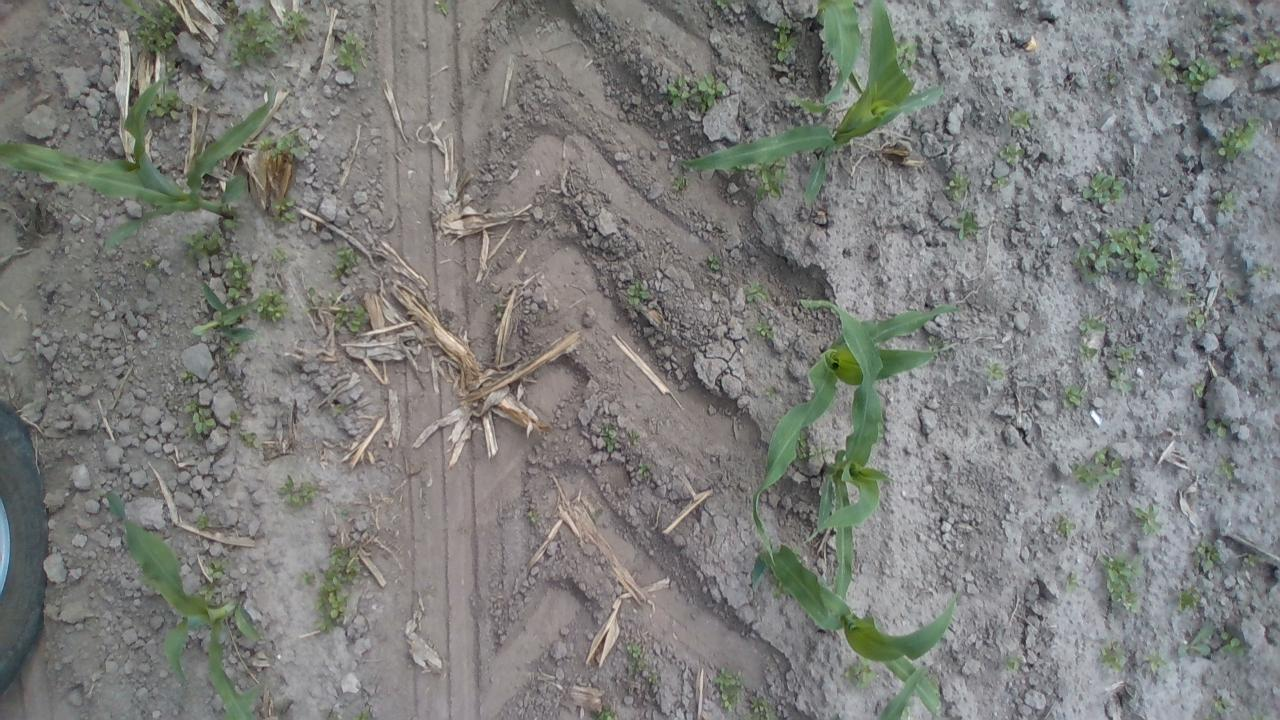Maize: (752, 302, 959, 562), (676, 6, 944, 206), (0, 78, 276, 252), (98, 485, 260, 720), (744, 546, 959, 716), (798, 293, 891, 606), (800, 0, 861, 113), (877, 667, 926, 720)
Weeds: (224, 0, 312, 70), (1072, 222, 1158, 286), (315, 546, 358, 632), (304, 287, 368, 335), (1176, 622, 1246, 659), (664, 74, 728, 114), (129, 3, 179, 54), (1100, 552, 1142, 612), (183, 216, 240, 258), (1070, 447, 1120, 490), (1216, 118, 1260, 161), (332, 29, 372, 74), (222, 250, 254, 305), (1081, 172, 1127, 208), (255, 129, 307, 160), (252, 286, 294, 324), (769, 17, 802, 62), (756, 156, 788, 202), (276, 476, 321, 508), (716, 666, 746, 712), (144, 87, 184, 121), (1182, 56, 1218, 92), (329, 243, 363, 279), (844, 655, 879, 689), (186, 398, 216, 437), (1192, 540, 1224, 572), (1132, 502, 1162, 536), (952, 208, 981, 243), (1098, 640, 1127, 674), (1154, 46, 1180, 82), (1160, 254, 1184, 292), (892, 34, 918, 68), (1253, 32, 1280, 64), (1060, 383, 1090, 411), (748, 695, 778, 720), (997, 140, 1025, 166), (946, 167, 969, 198), (1110, 367, 1136, 394), (626, 280, 652, 306), (744, 278, 770, 304), (272, 198, 300, 222), (1077, 312, 1106, 335), (1203, 697, 1231, 720), (1205, 417, 1235, 438), (1176, 584, 1200, 610), (1214, 455, 1236, 481), (1210, 16, 1234, 38), (601, 423, 618, 454), (1054, 511, 1074, 536), (205, 559, 228, 580), (790, 94, 814, 114), (625, 642, 641, 672), (751, 319, 776, 338), (1147, 652, 1167, 674), (1186, 308, 1206, 330), (984, 362, 1006, 382), (1225, 51, 1248, 70), (795, 430, 809, 461), (1008, 110, 1030, 129), (706, 0, 730, 17), (1218, 191, 1238, 211), (1077, 344, 1099, 361), (270, 246, 290, 264), (238, 432, 258, 450), (1114, 344, 1136, 360), (772, 576, 788, 598), (1065, 572, 1080, 594), (199, 583, 218, 600), (1243, 552, 1263, 568), (1005, 657, 1023, 674), (225, 340, 241, 359), (810, 446, 831, 460), (163, 61, 180, 78), (672, 175, 689, 192), (591, 709, 617, 720), (433, 0, 450, 16), (1257, 263, 1273, 279), (1192, 380, 1206, 398), (707, 254, 721, 272), (252, 624, 266, 642), (1181, 290, 1197, 305), (928, 334, 943, 350), (638, 462, 655, 476), (300, 569, 314, 586), (194, 514, 208, 530), (1248, 708, 1266, 720), (179, 369, 194, 383), (898, 705, 912, 720), (994, 173, 1008, 187), (143, 259, 158, 272), (628, 429, 640, 445), (229, 411, 241, 425), (877, 422, 886, 438), (792, 548, 801, 564), (354, 711, 369, 720), (526, 512, 538, 523), (766, 387, 776, 400), (902, 69, 912, 82), (335, 403, 345, 415), (648, 674, 658, 685), (1108, 72, 1118, 81), (1226, 286, 1233, 297), (906, 89, 917, 95)
